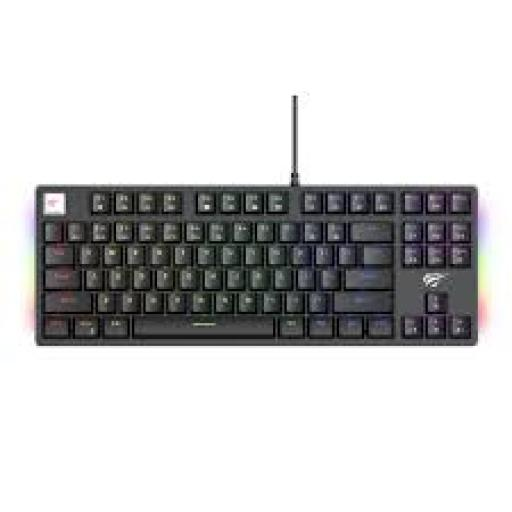KEYBOARD-2: (36, 187, 476, 344)
